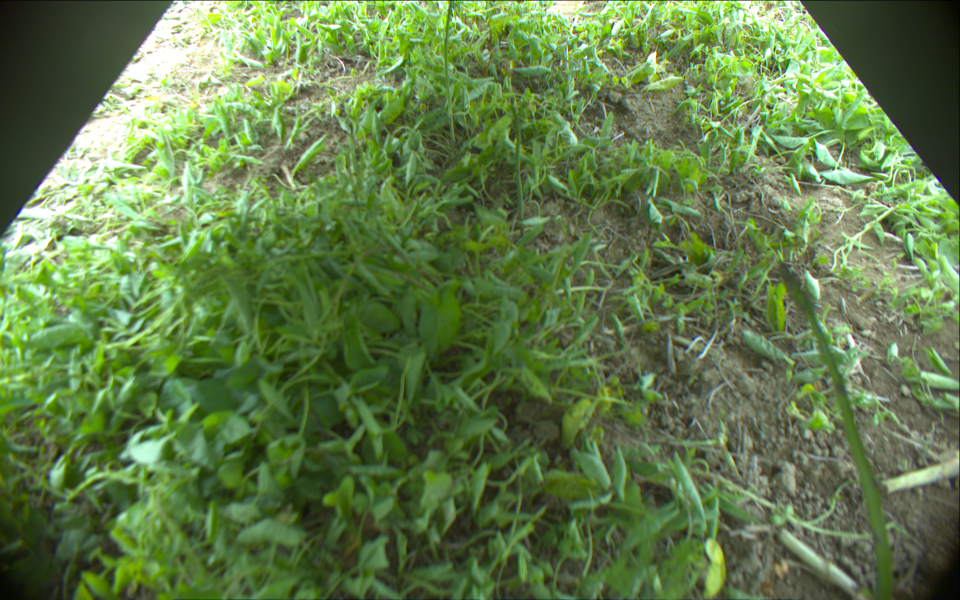aspa: (782, 266, 897, 600), (510, 97, 526, 230), (443, 1, 453, 89)
